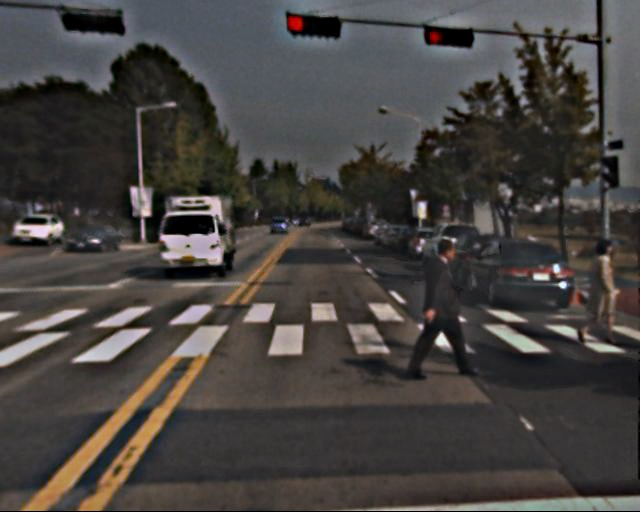person: (410, 234, 470, 381), (577, 236, 623, 348)
